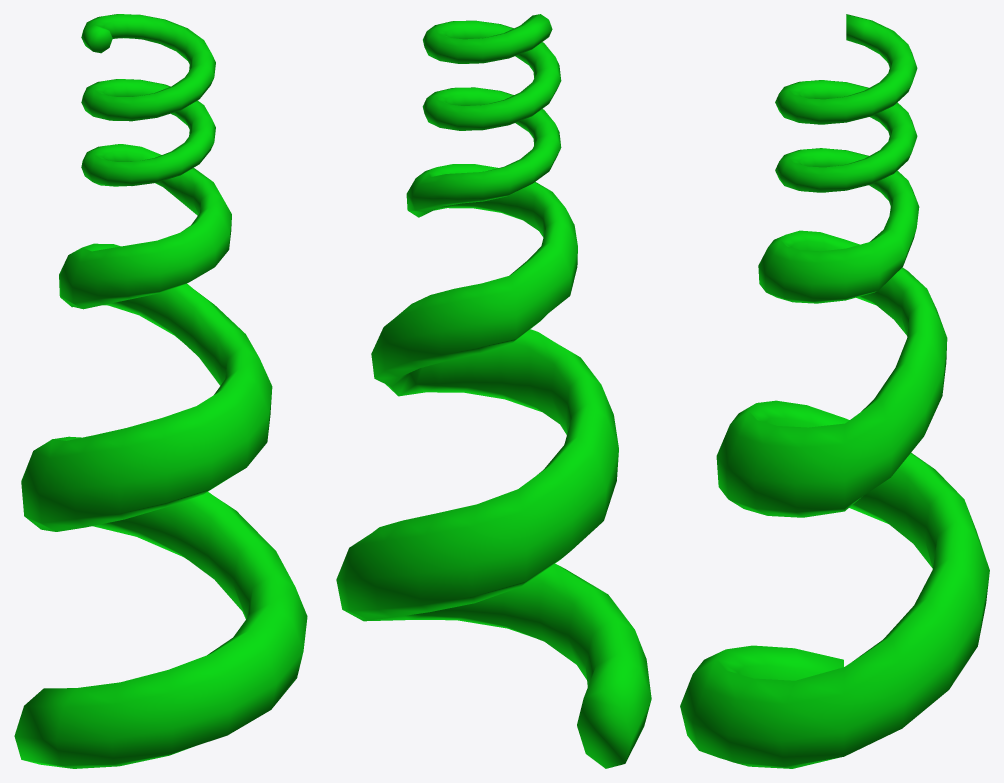
The model's file is 謎のくさ.fbx.
The picture shows the model from 3 angles, left to right: view 1: azimuth 30°, elevation 25°; view 2: azimuth 150°, elevation 25°; view 3: azimuth 270°, elevation 25°; orthographic projection. The views are drawn at different scales.
Parts seen in each view (by area): view 1: 円; view 2: 円; view 3: 円.
Boxes of the visible parts, box(x1,y1,x2,y2) form: 円: box(14, 14, 307, 768); 円: box(336, 14, 651, 768); 円: box(680, 14, 989, 768).
Bounding box in the file's own units: 9977 × 25170 × 9371.
